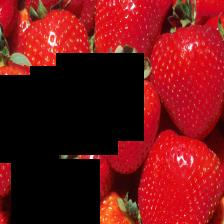red: (138, 130, 223, 224), (22, 10, 91, 116)
